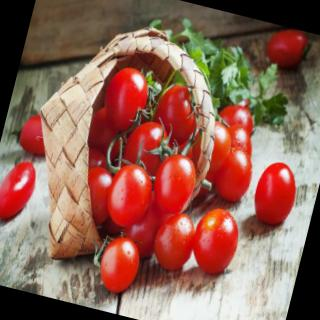Tomat: (186, 203, 246, 279), (148, 80, 207, 152), (97, 63, 154, 137), (101, 160, 158, 233), (249, 158, 304, 230), (148, 150, 202, 219), (149, 209, 202, 276), (94, 233, 145, 298), (212, 144, 259, 206)
